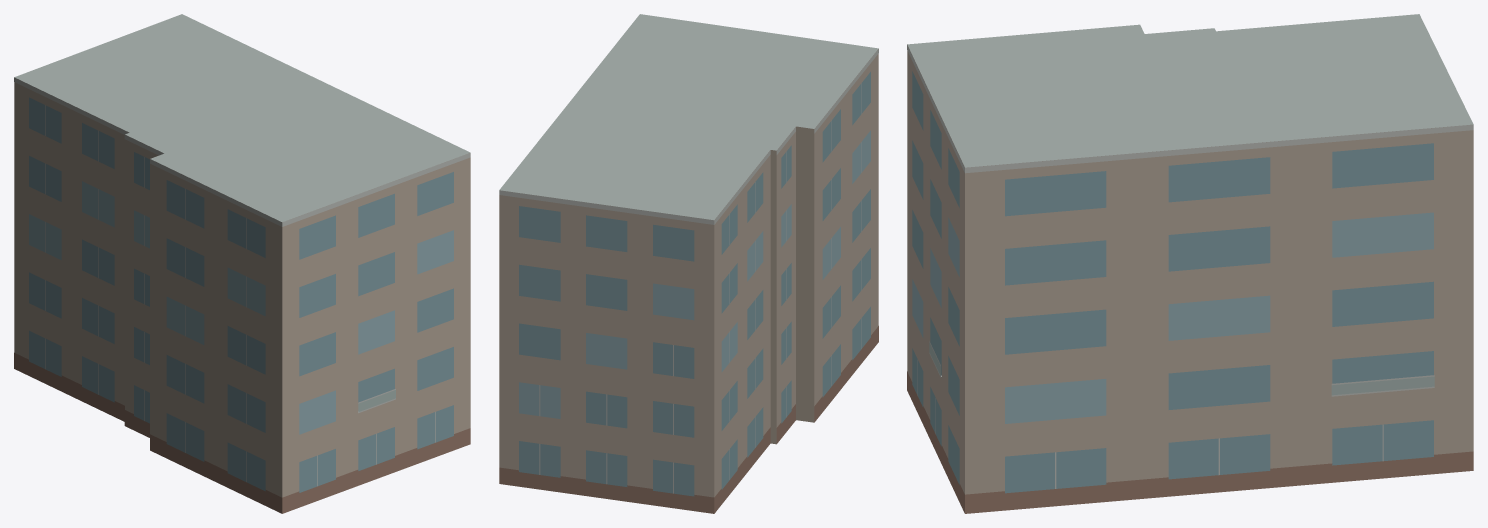
Rendered from survey-upis-32606593.glb.
3 renders of one model, left to right at view 1: azimuth 30°, elevation 25°; view 2: azimuth 150°, elevation 25°; view 3: azimuth 270°, elevation 25°, orthographic. The views are drawn at different scales.
Parts seen in each view (by area): view 1: survey-upis-32606593.tmp; view 2: survey-upis-32606593.tmp; view 3: survey-upis-32606593.tmp.
Part boxes in pixels (bbox=[...]): survey-upis-32606593.tmp: bbox=[14, 14, 470, 513]; survey-upis-32606593.tmp: bbox=[499, 14, 878, 513]; survey-upis-32606593.tmp: bbox=[907, 14, 1473, 513].
Bounding box in the file's own units: 14.33 × 15.05 × 22.32.
